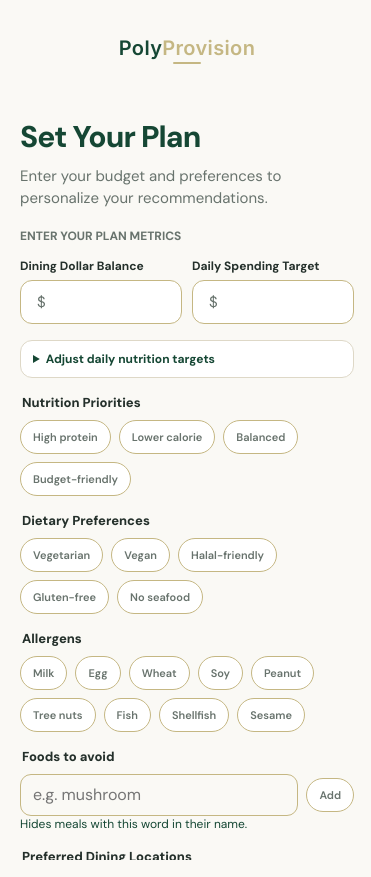
Test case: OnboardingPage allergens and avoided foods › stays on the page with an error if the allergens can't be saved
Step 1. Type "400" into the field labelled "Dining Dollar Balance $" → (105, 302), box x1=46 y1=280 x2=165 y2=322
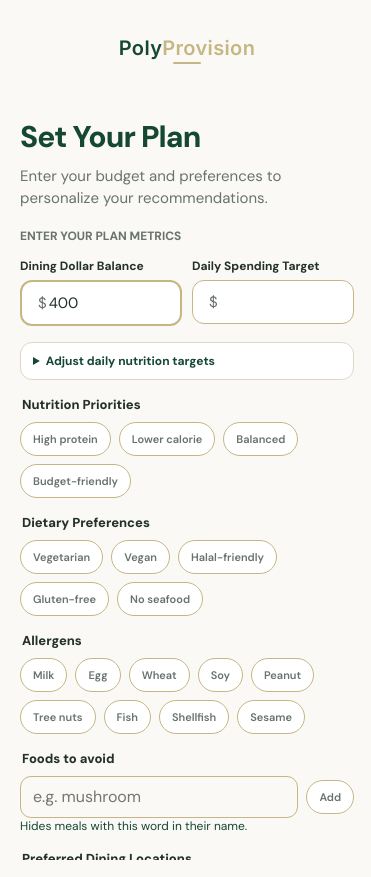
Step 2. Type "25" into the field labelled "Daily Spending Target $" → (277, 302), box x1=218 y1=280 x2=337 y2=322
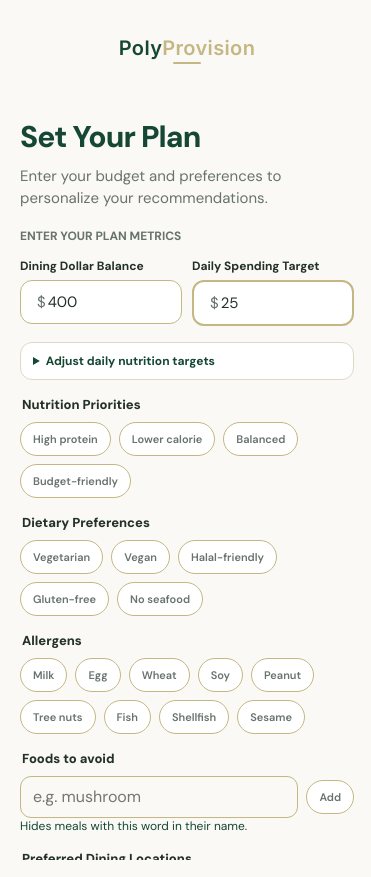
Step 3. Click the button "Milk" → (44, 674), box x1=20 y1=658 x2=67 y2=692
(page scrolled)
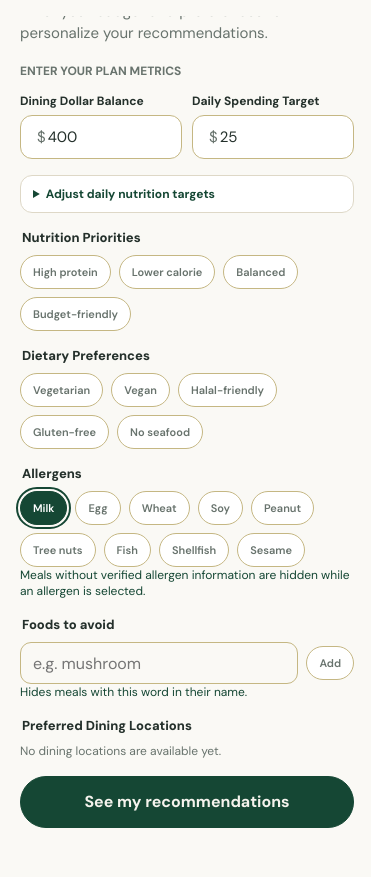
Step 4. Click the button "See my recommendations" → (187, 802), box x1=20 y1=776 x2=354 y2=828
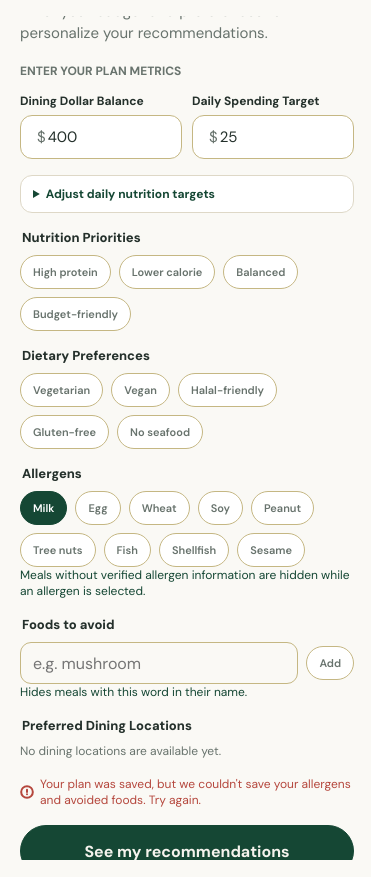
Result: the message shows "couldn't save your allergens" at x1=40 y1=776 x2=351 y2=808
